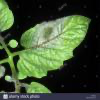Tomato leaf late blight: (13, 13, 93, 79)
